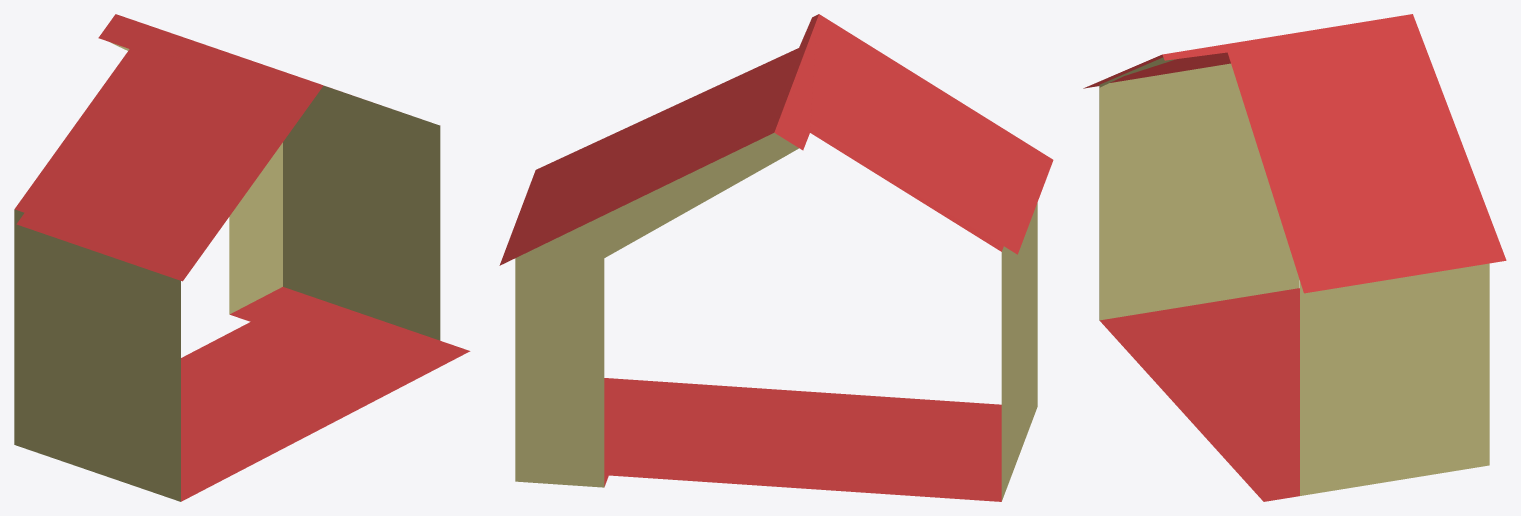
The picture shows the model from 3 angles, left to right: view 1: azimuth 30°, elevation 25°; view 2: azimuth 150°, elevation 25°; view 3: azimuth 270°, elevation 25°; orthographic projection. The views are drawn at different scales.
Size of the model in its own units: 19.45 by 16.07 by 14.67.
